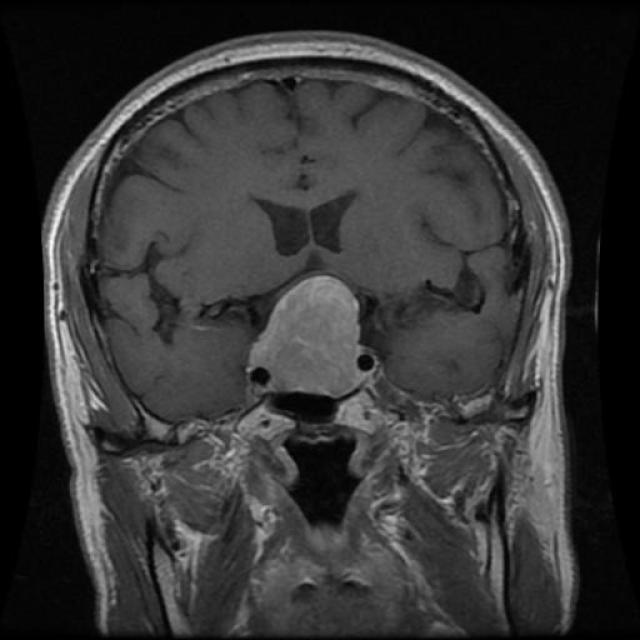pituitary: (240, 270, 382, 406)
